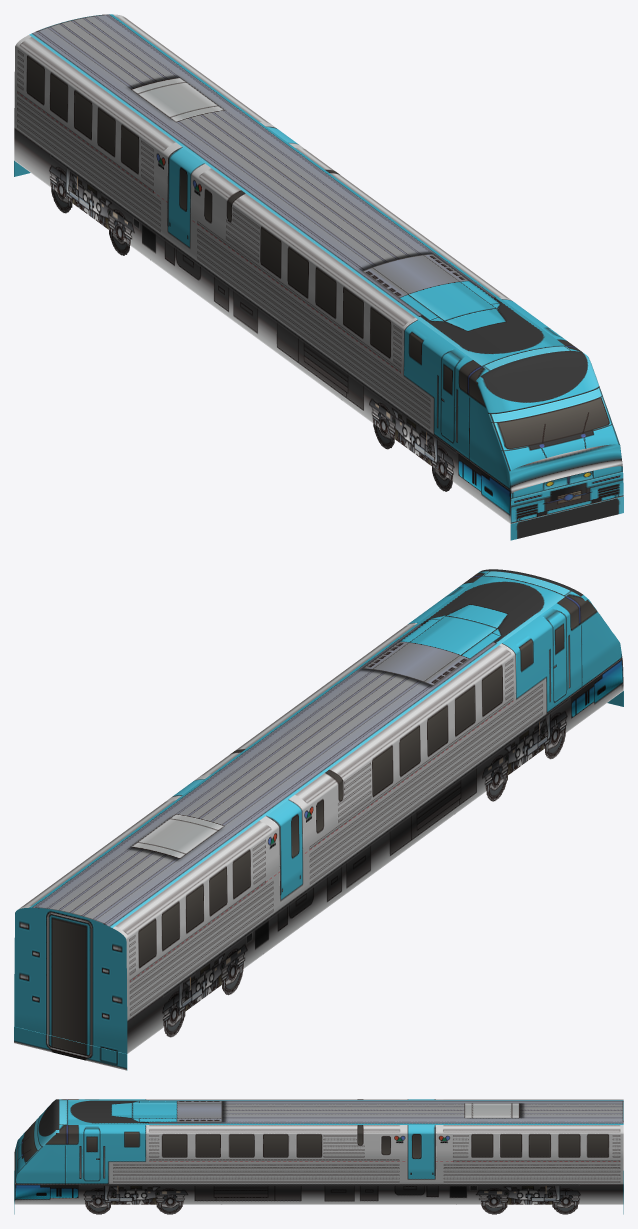
File: car1.glb
3 renders of one model, top to bottom at view 1: azimuth 30°, elevation 25°; view 2: azimuth 150°, elevation 25°; view 3: azimuth 270°, elevation 25°, orthographic. The views are drawn at different scales.
Parts seen in each view (by area): view 1: jr-kyusyu-883-car1; view 2: jr-kyusyu-883-car1; view 3: jr-kyusyu-883-car1.
Part boxes in pixels (box(x1,y1,x2,y2)): jr-kyusyu-883-car1: box(14, 14, 623, 540); jr-kyusyu-883-car1: box(14, 569, 623, 1070); jr-kyusyu-883-car1: box(14, 1099, 623, 1214).
Size of the model in its own units: 2.85 by 3.45 by 21.73.
8 materials, 7 textured.
